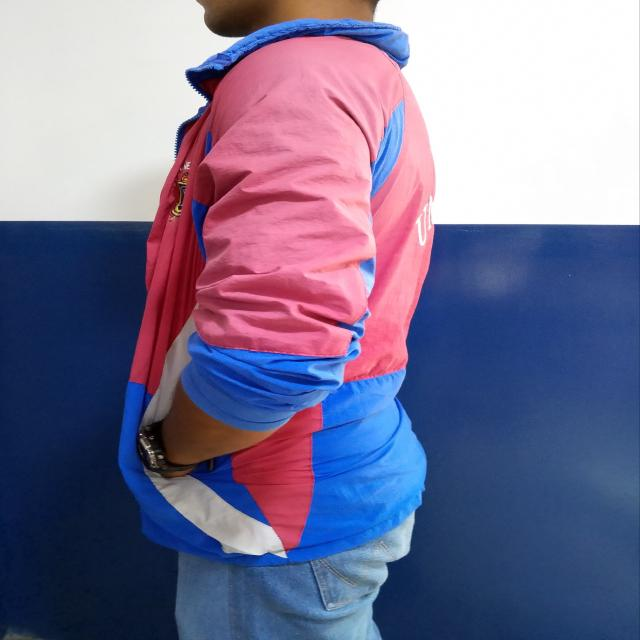chaqueta_unefa: (116, 17, 437, 569)
